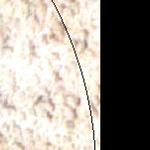alive: (2, 1, 98, 148)
